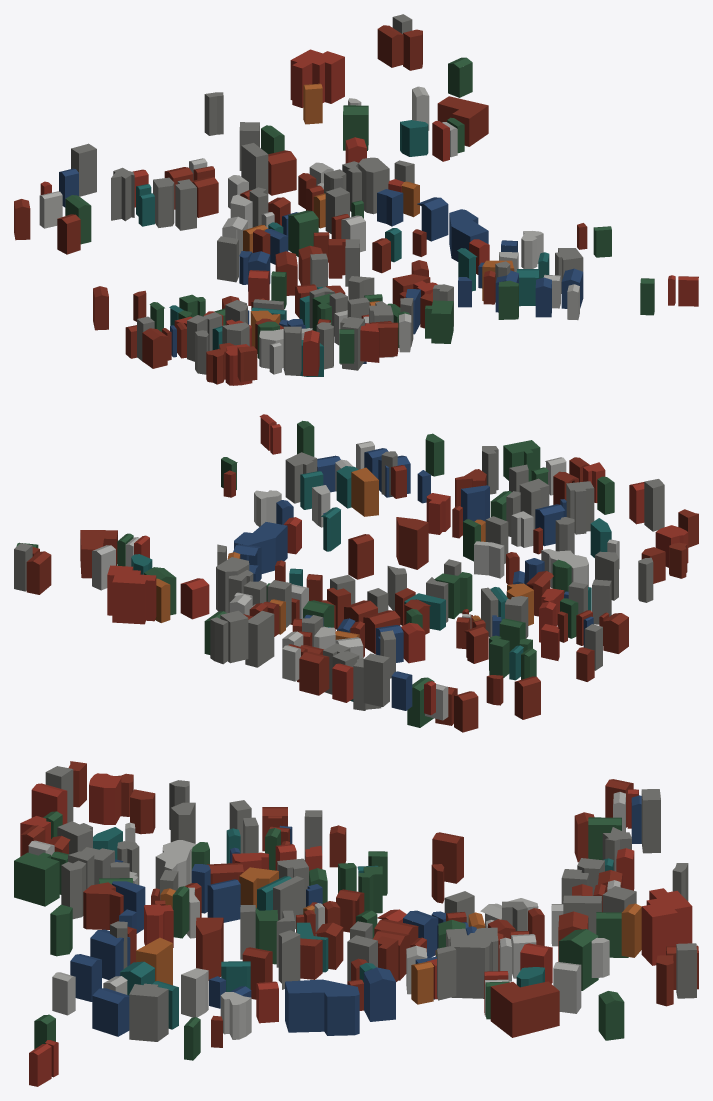
Rendered from near-17-109449-59473.8c36a5fb.glb.
3 renders of one model, top to bottom at view 1: azimuth 30°, elevation 25°; view 2: azimuth 150°, elevation 25°; view 3: azimuth 270°, elevation 25°, orthographic. The views are drawn at different scales.
Bounding box in the file's own units: 289 × 83.04 × 303.
